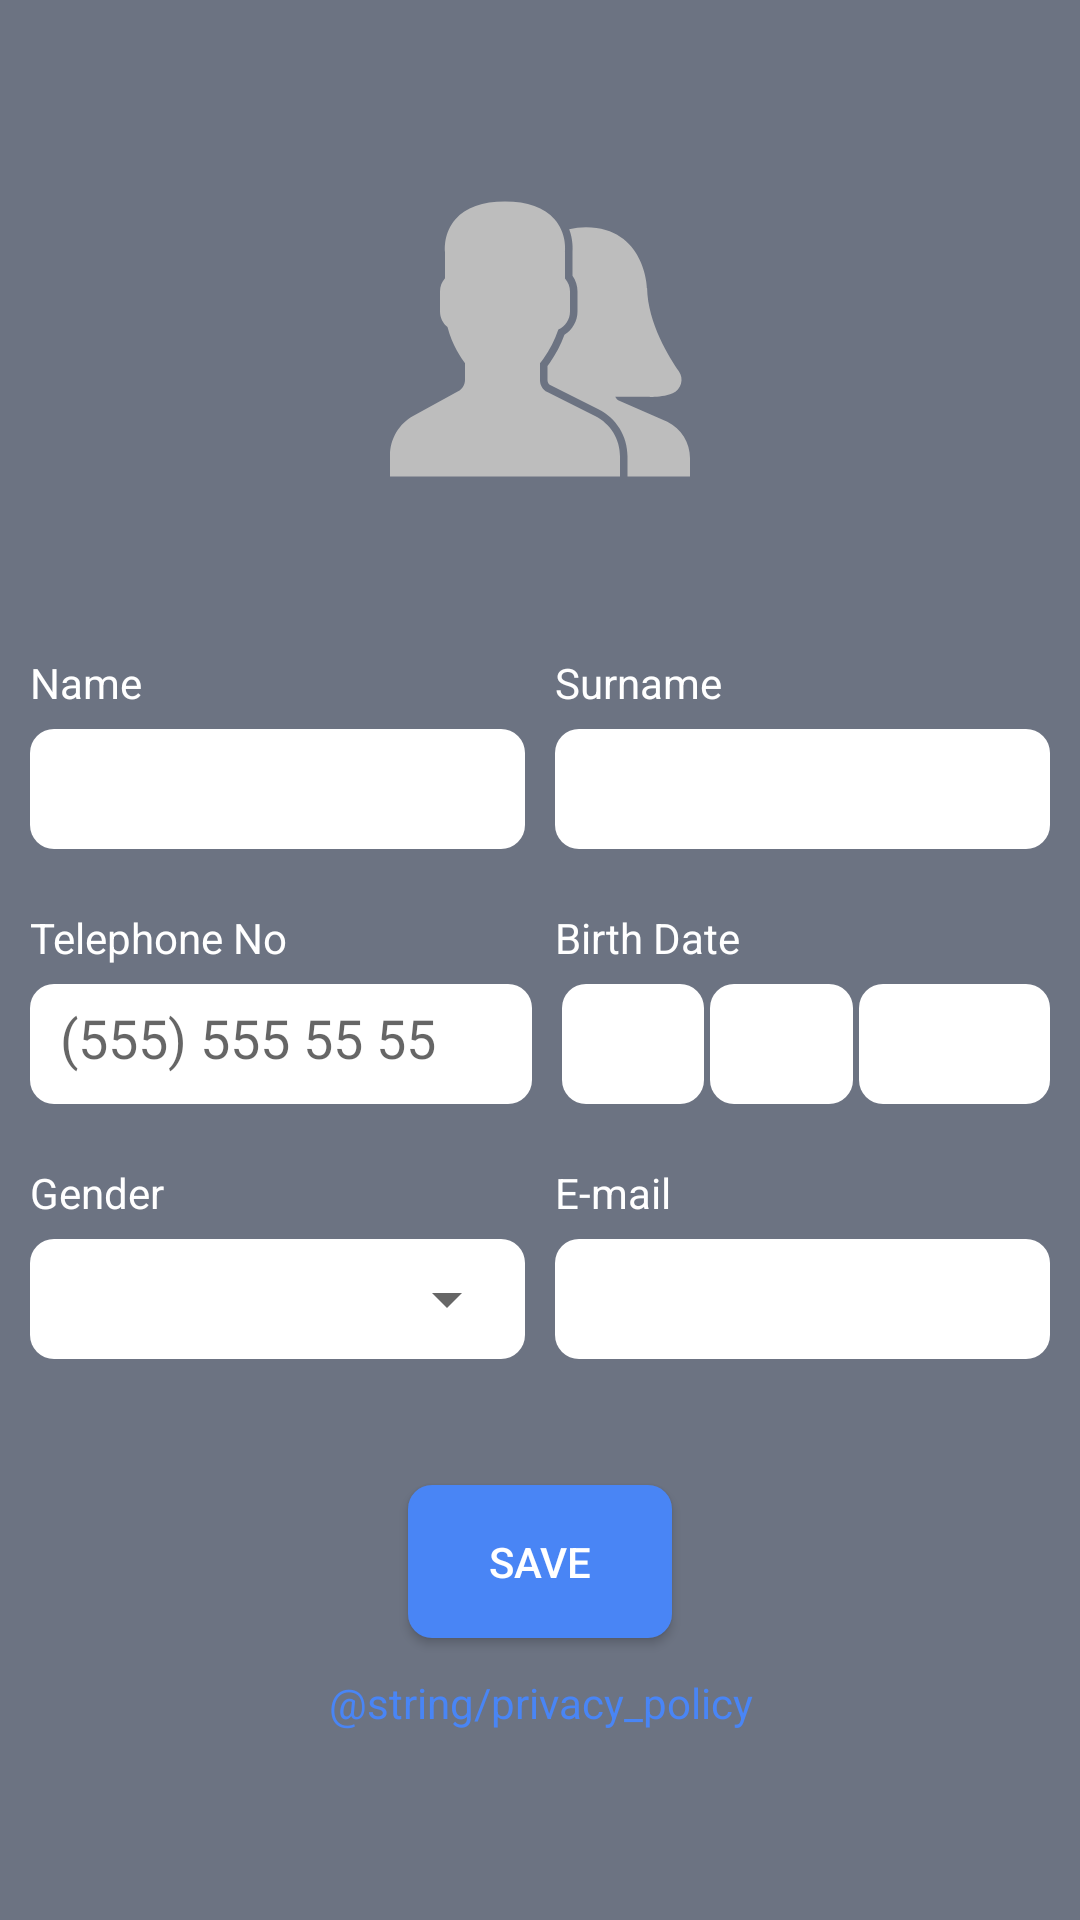

Named icons in this screenshot (1080*1920) and their centers, (x=x, y=y):
users: (x=540, y=339)
